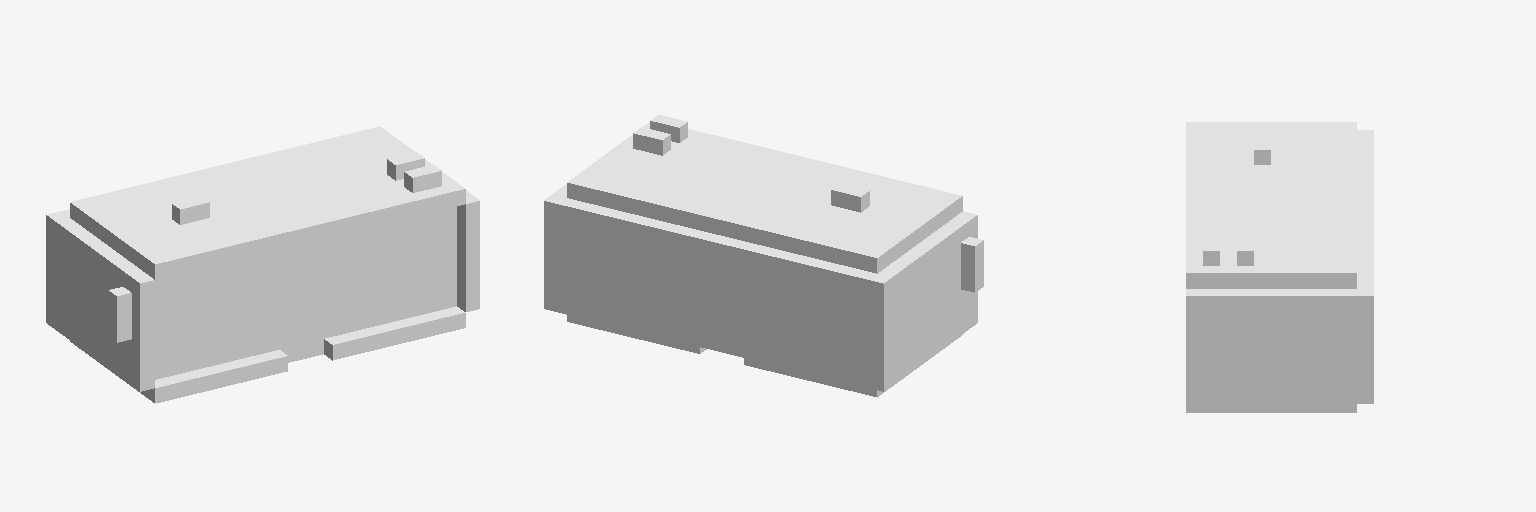
Rendered from AlarmClock.obj.
3 renders of one model, left to right at view 1: azimuth 30°, elevation 25°; view 2: azimuth 150°, elevation 25°; view 3: azimuth 270°, elevation 25°, orthographic.
Visible parts, largest first — view 1: object 1; view 2: object 1; view 3: object 1.
Part boxes in pixels (left/top/right/bottom): object 1: left=46, top=126, right=479, bottom=403; object 1: left=544, top=114, right=983, bottom=397; object 1: left=1186, top=122, right=1373, bottom=412.
Size of the model in its own units: 2.4 by 1 by 1.1.